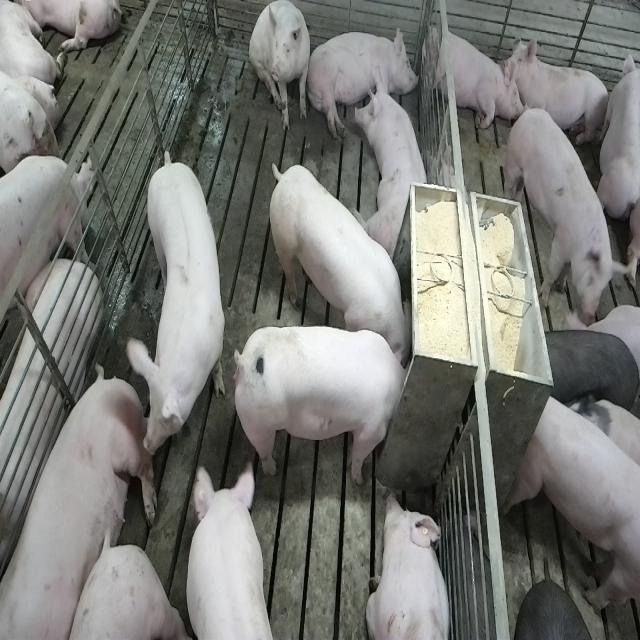Feeding: (264, 160, 412, 363), (228, 323, 410, 483)
Lateral_lying: (0, 369, 152, 640), (0, 258, 101, 603), (306, 24, 419, 141)
Sitting: (250, 2, 312, 134)
Standing: (121, 147, 226, 452), (513, 389, 638, 632), (507, 104, 625, 326), (0, 158, 94, 344), (181, 462, 278, 640), (533, 326, 637, 416)
Sternal_lying: (355, 73, 433, 259), (365, 490, 453, 640), (506, 36, 612, 153), (424, 20, 516, 133)
